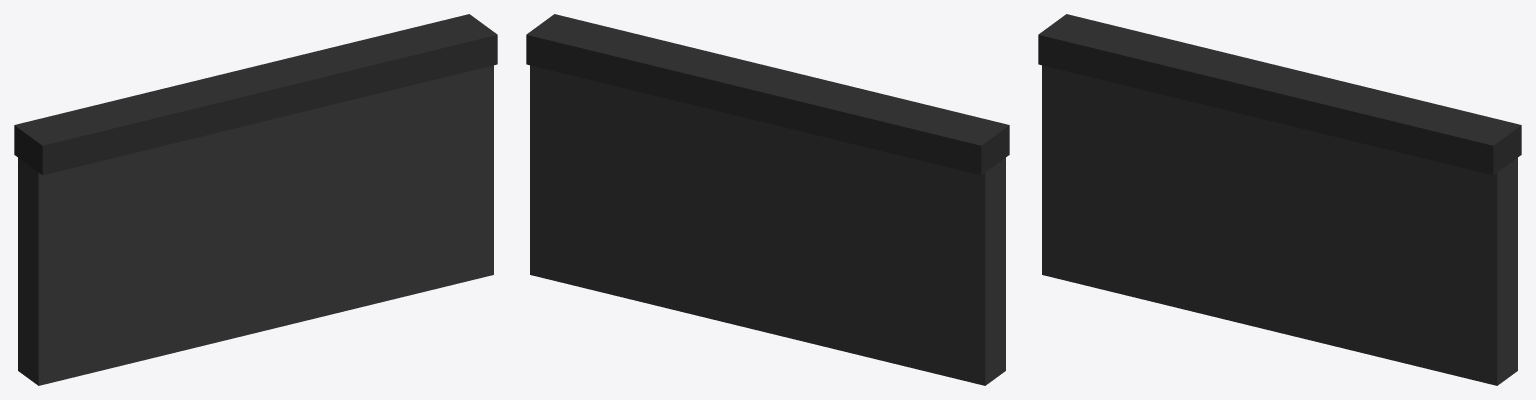
Rendered from SM_Wall.fbx.
The picture shows the model from 3 angles, left to right: view 1: azimuth 30°, elevation 25°; view 2: azimuth 150°, elevation 25°; view 3: azimuth 330°, elevation 25°; orthographic projection.
Parts seen in each view (by area): view 1: SM_Wall; view 2: SM_Wall; view 3: SM_Wall.
Boxes of the visible parts, bbox=[...] form: SM_Wall: bbox=[14, 14, 497, 385]; SM_Wall: bbox=[526, 14, 1009, 385]; SM_Wall: bbox=[1038, 14, 1521, 385].
Size of the model in its own units: 600 by 306 by 64.65.
